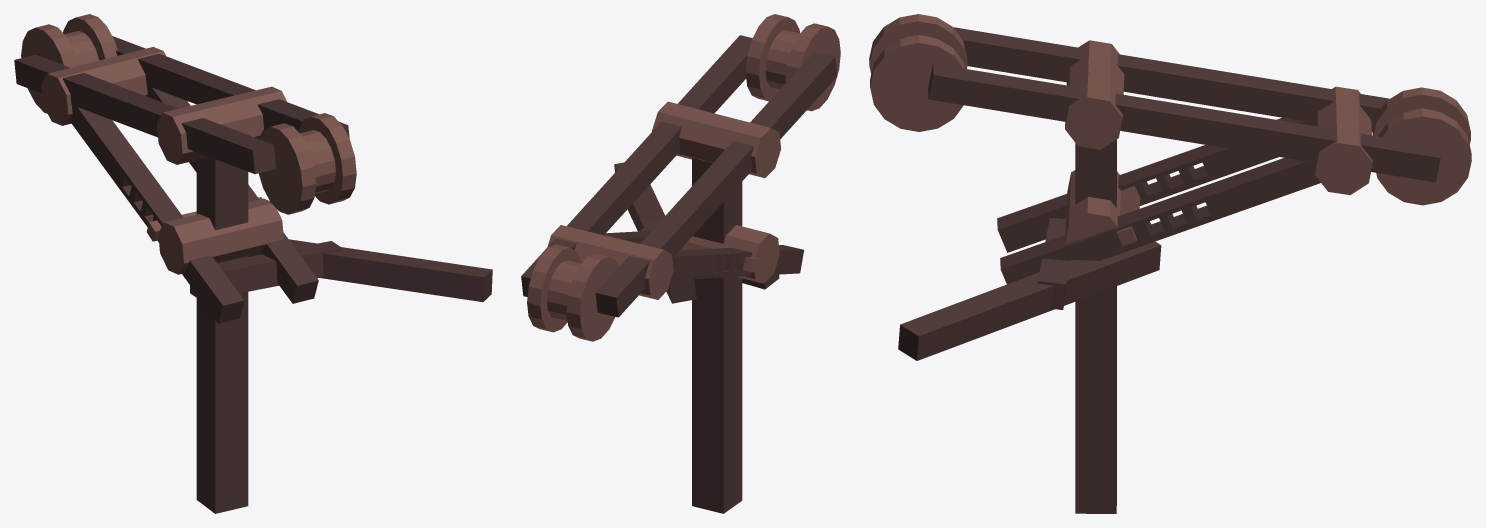
The model's file is DarkWoodMechCraneBracket1.fbx.
3 views of the same model, side by side, from view 1: azimuth 30°, elevation 25°; view 2: azimuth 150°, elevation 25°; view 3: azimuth 270°, elevation 25° (orthographic). The views are drawn at different scales.
Parts seen in each view (by area): view 1: Crane, D_Reel_002, D_Reel_003; view 2: Crane, D_Reel_003, D_Reel_002; view 3: Crane, D_Reel_002, D_Reel_003.
Part boxes in pixels (bbox=[...]): Crane: bbox=[14, 36, 492, 513]; D_Reel_002: bbox=[258, 113, 356, 214]; D_Reel_003: bbox=[21, 14, 117, 113]; Crane: bbox=[521, 35, 837, 513]; D_Reel_003: bbox=[527, 244, 618, 341]; D_Reel_002: bbox=[746, 14, 840, 111]; Crane: bbox=[898, 27, 1440, 513]; D_Reel_002: bbox=[869, 14, 967, 131]; D_Reel_003: bbox=[1372, 87, 1471, 205].
Size of the model in its own units: 625 by 1073 by 1227.
